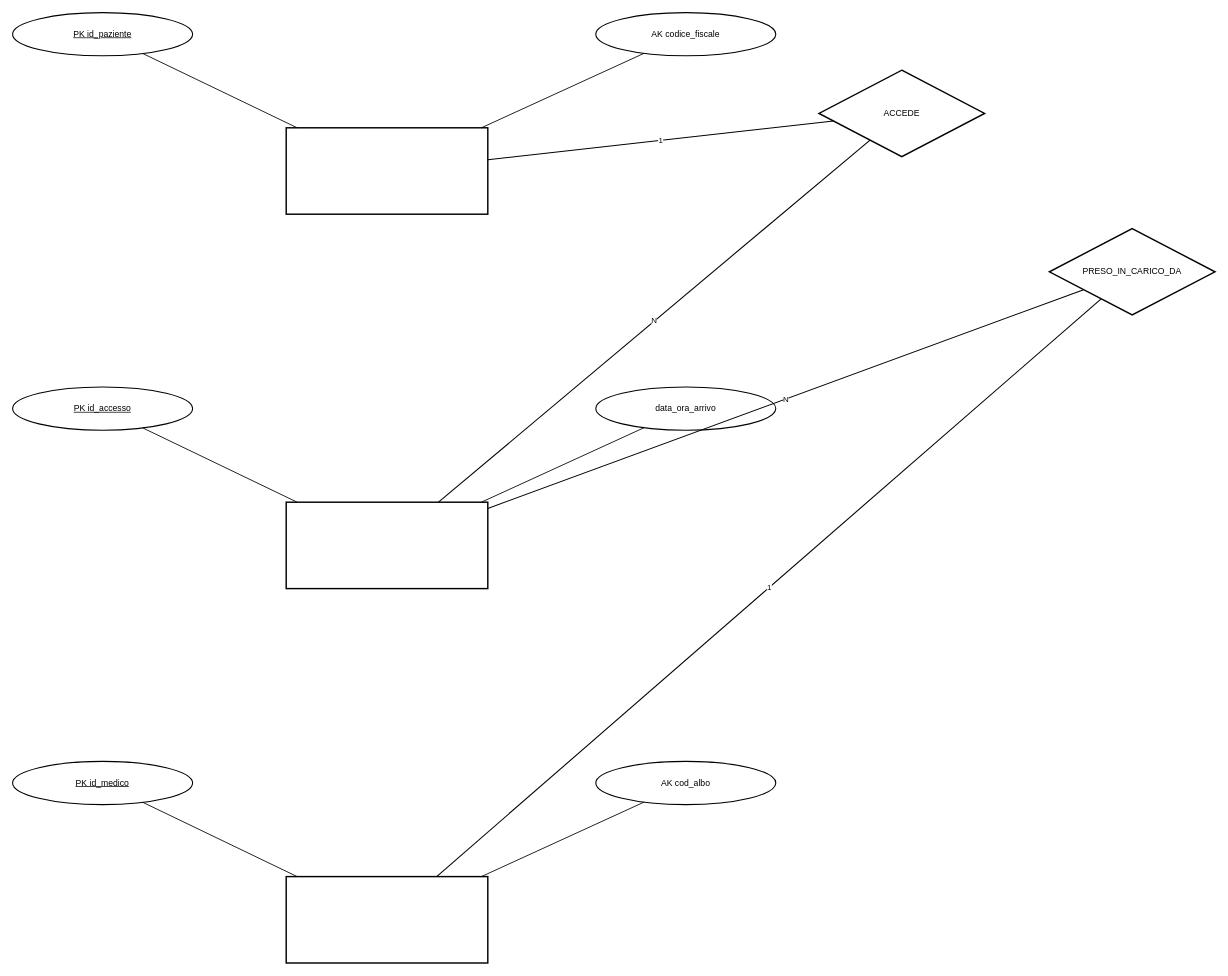
Some shapes in this 1228 by 976 pixel diagram are drawn without their labels. The box of each missing label's shape, as (x1, y1, x2, y2) in pixels:
ACCESSO: (285, 501, 488, 589)
MEDICO: (285, 876, 488, 963)
PAZIENTE: (285, 127, 488, 215)
